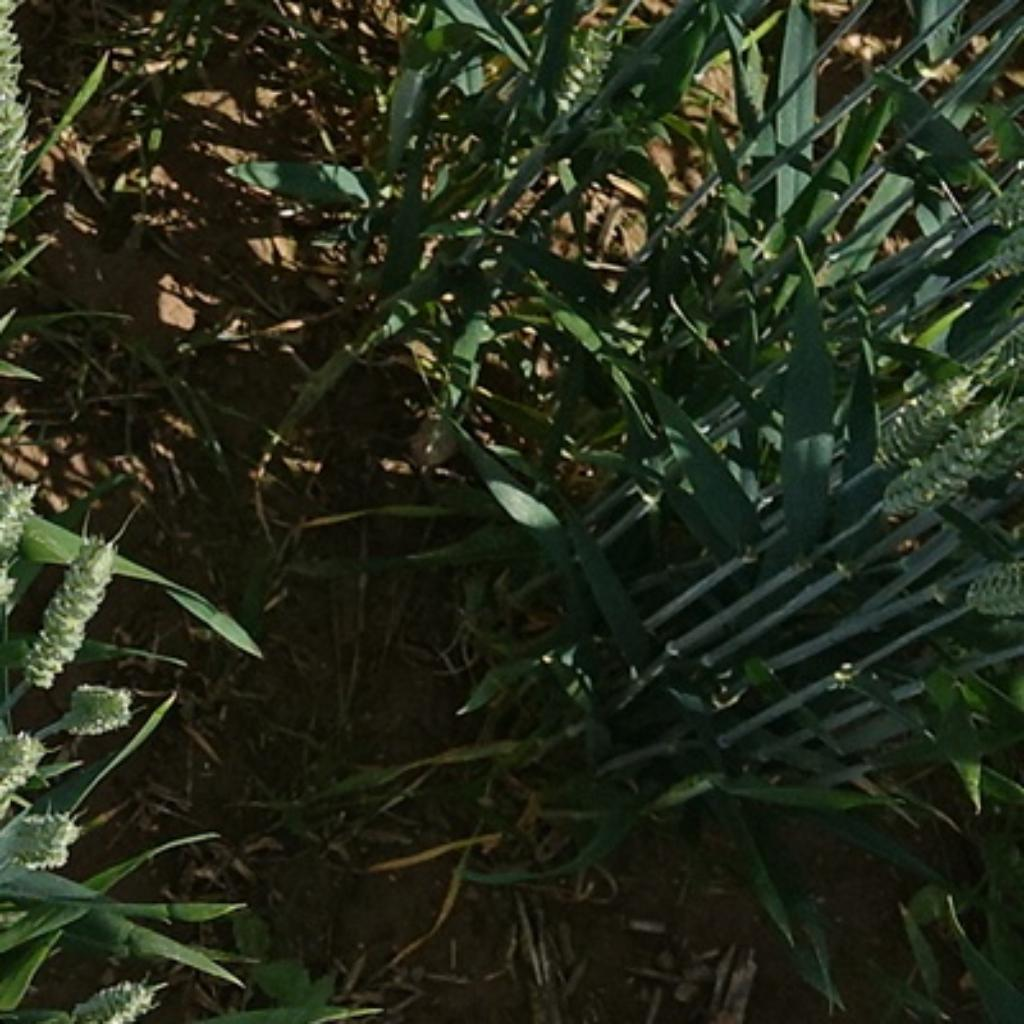0-0: (875, 404, 1011, 524), (15, 529, 120, 680), (541, 21, 626, 131), (879, 373, 971, 471), (935, 554, 1024, 629), (0, 812, 81, 881), (0, 91, 35, 248), (66, 967, 158, 1024), (61, 678, 140, 737), (0, 727, 48, 814), (0, 469, 40, 566), (0, 0, 23, 115)
